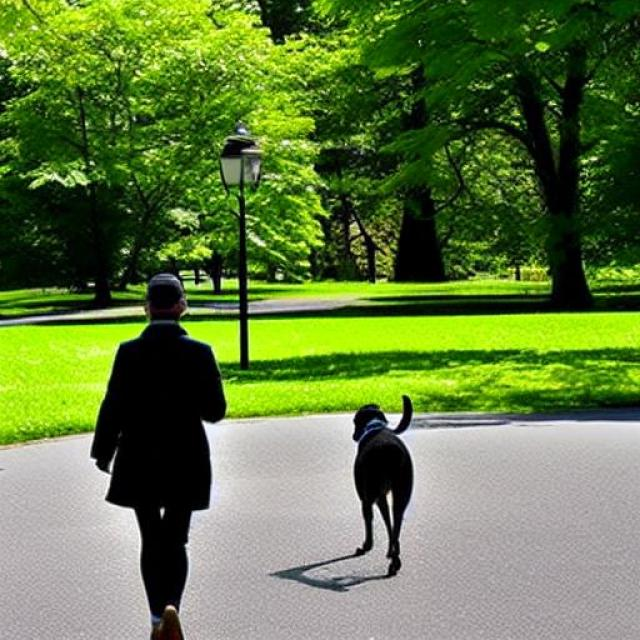Unleashed_Dog: (133, 393, 414, 578)
